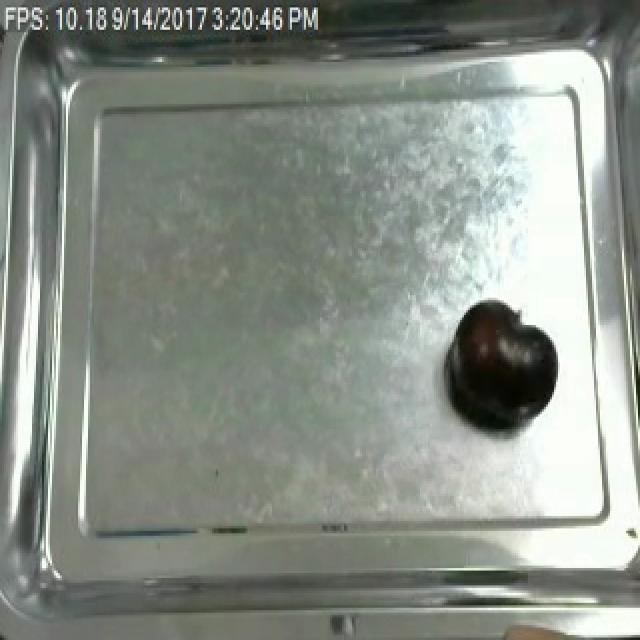Fruit: (442, 295, 562, 434)
